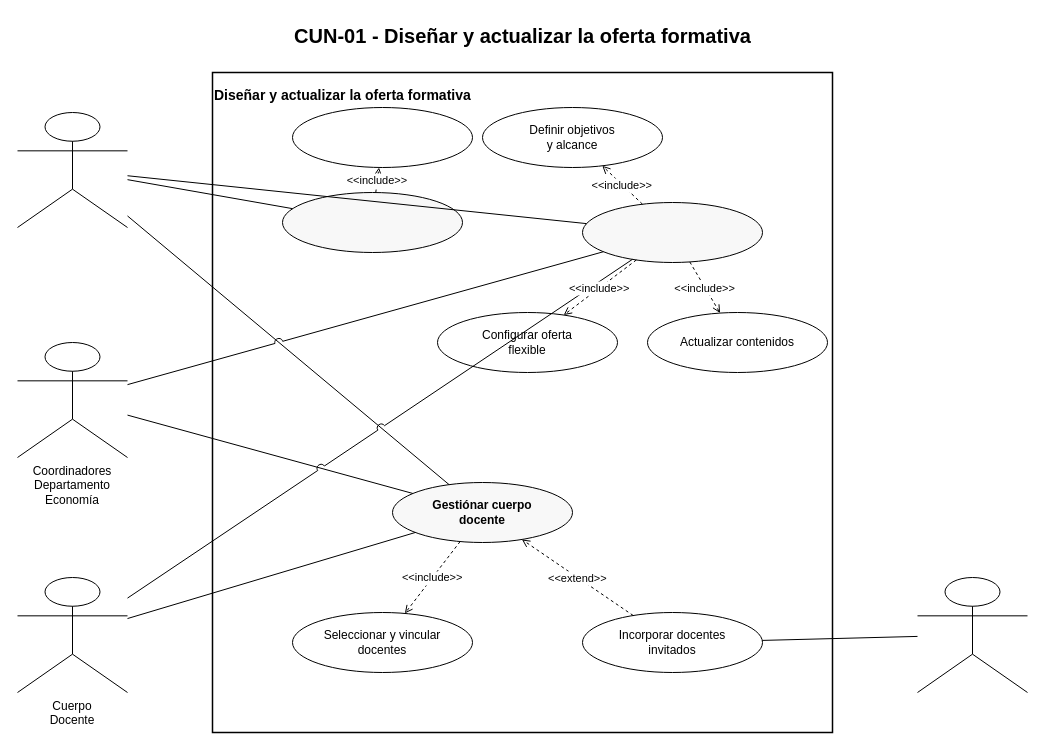
This 1045x750 diagram has some shape labels left out. Each missing label, with the centre of its shape:
"Coordinadora del Programa" belongs at (x=72, y=170).
"Diseñar propuesta académica" belongs at (x=672, y=232).
"Investigar necesidades de capacitación" belongs at (x=372, y=222).
"Relevar necesidades" belongs at (x=382, y=137).
"Universidades Invitadas" belongs at (x=972, y=634).
